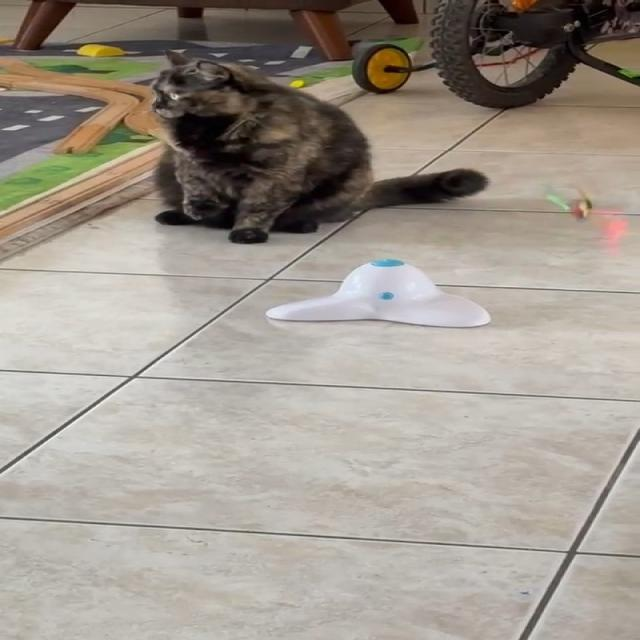authorized: (147, 48, 489, 244)
